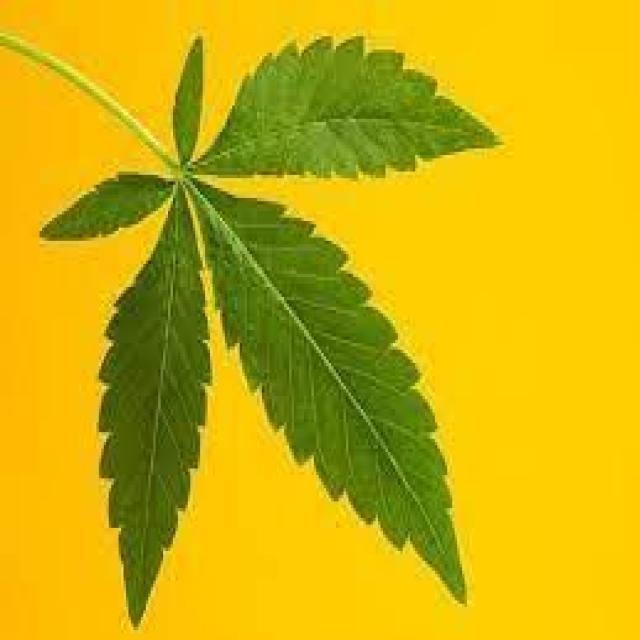cannabis: (0, 33, 502, 633)
